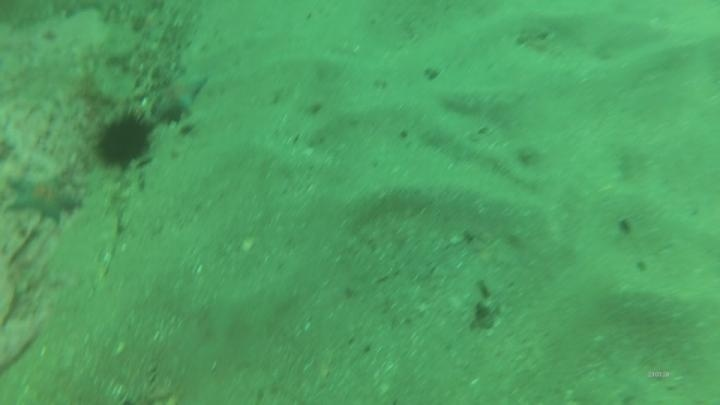echinus: (90, 105, 158, 174)
starfish: (4, 167, 86, 230), (147, 66, 212, 126)
